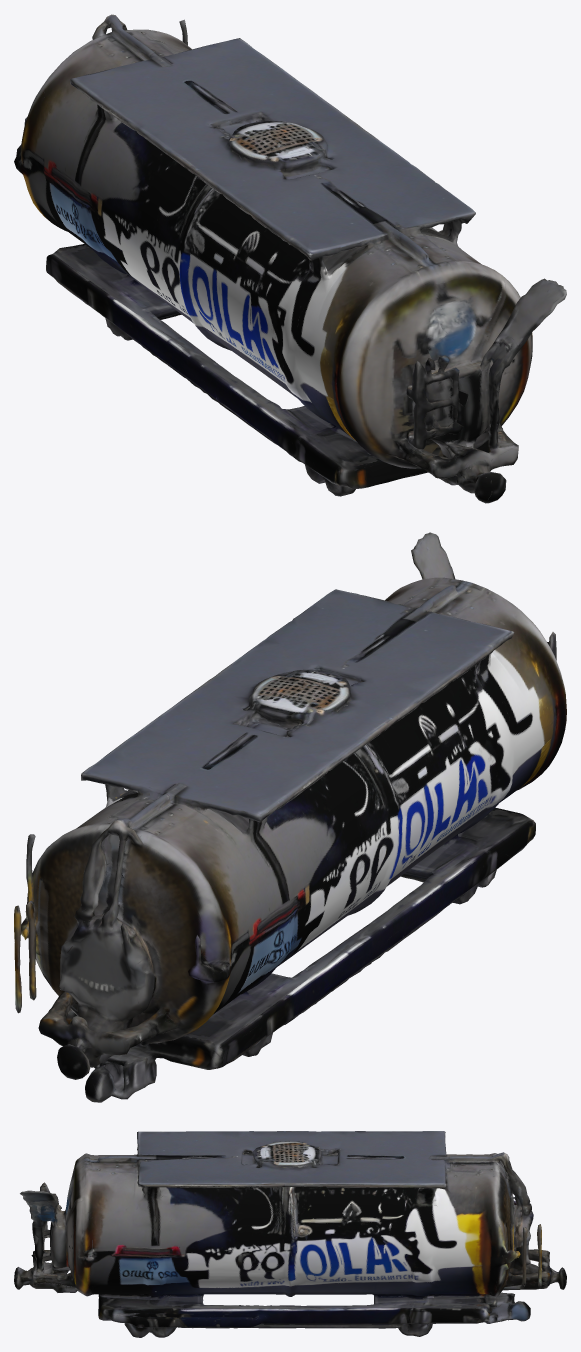
Rendered from cisterna.glb.
3 views of the same model, one above another, from view 1: azimuth 30°, elevation 25°; view 2: azimuth 150°, elevation 25°; view 3: azimuth 270°, elevation 25° (orthographic). The views are drawn at different scales.
Bounding box in the file's own units: 0.5239 × 0.6687 × 2.01.
Materials: 1 (1 with a texture image).
